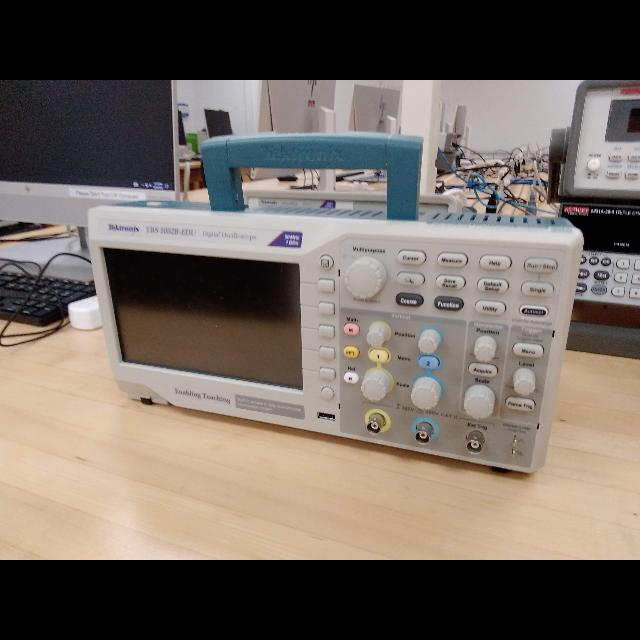Digital-Oscilloscope: (88, 207, 583, 476)
